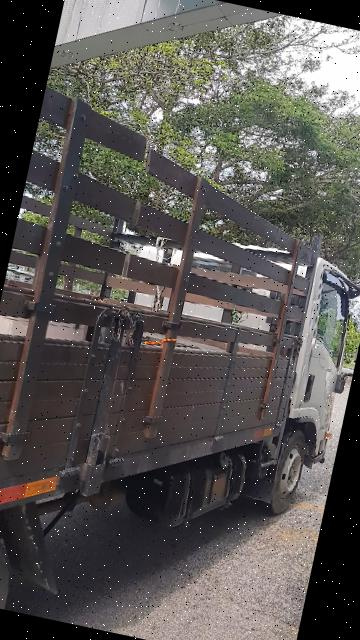lorry: (1, 77, 360, 640)
